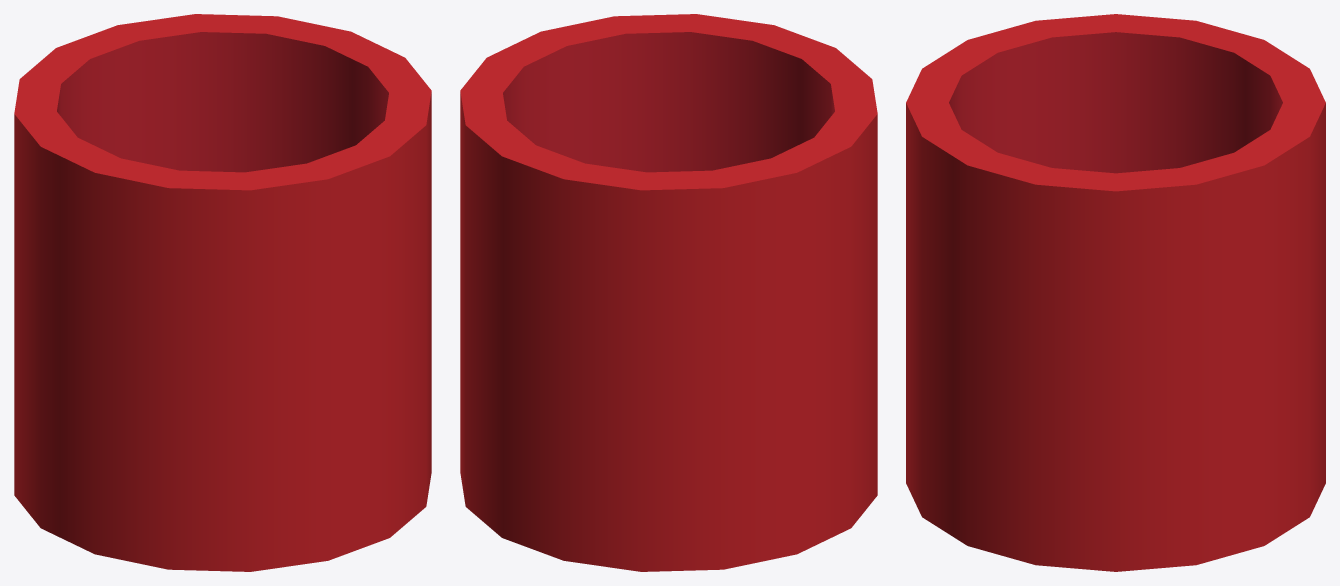
File: pipe_straight_A_red.glb
3 views of the same model, side by side, from view 1: azimuth 30°, elevation 25°; view 2: azimuth 150°, elevation 25°; view 3: azimuth 270°, elevation 25° (orthographic).
Parts seen in each view (by area): view 1: pipe_straight_A_red; view 2: pipe_straight_A_red; view 3: pipe_straight_A_red.
Boxes of the visible parts, x1,y1,x2,y2 form: pipe_straight_A_red: (14,14,431,571); pipe_straight_A_red: (460,14,877,571); pipe_straight_A_red: (906,14,1325,571).
Size of the model in its own units: 2 by 2 by 2.
1 material, 1 textured.
